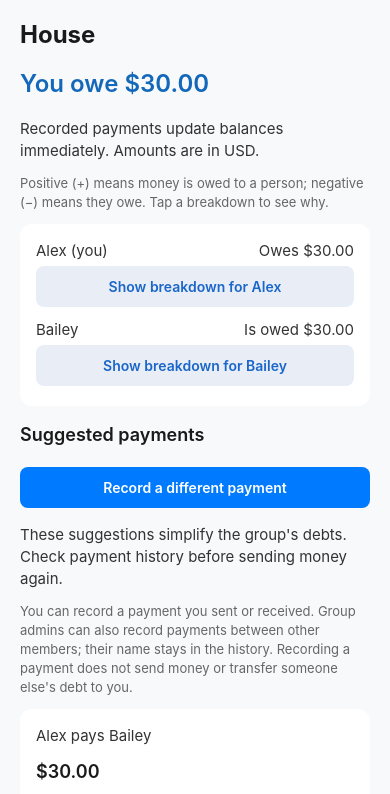
Test: GroupBalancesScreen › does not show a false itemized total when detail data disagrees with the server
The image size is (390, 794).
Click the button "Show breakdown for Alex" at (195, 286), box top-left (36, 266), bottom-right (354, 307)
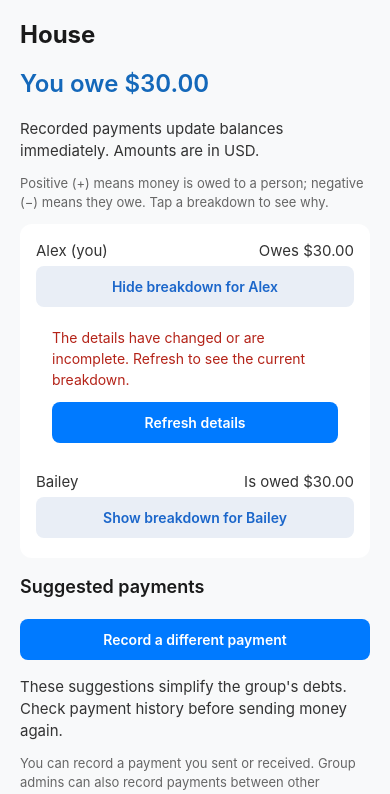
Now the text "details have changed or are incomplete" is shown, box top-left (52, 329), bottom-right (309, 388)
